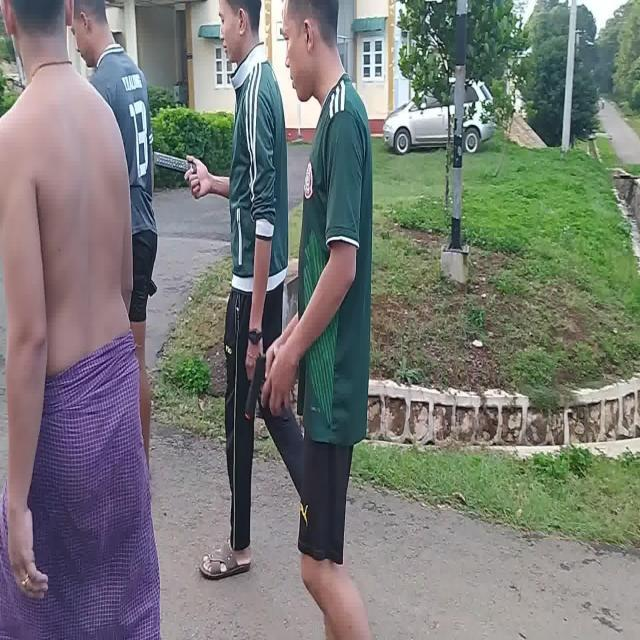gun: (245, 353, 267, 420)
